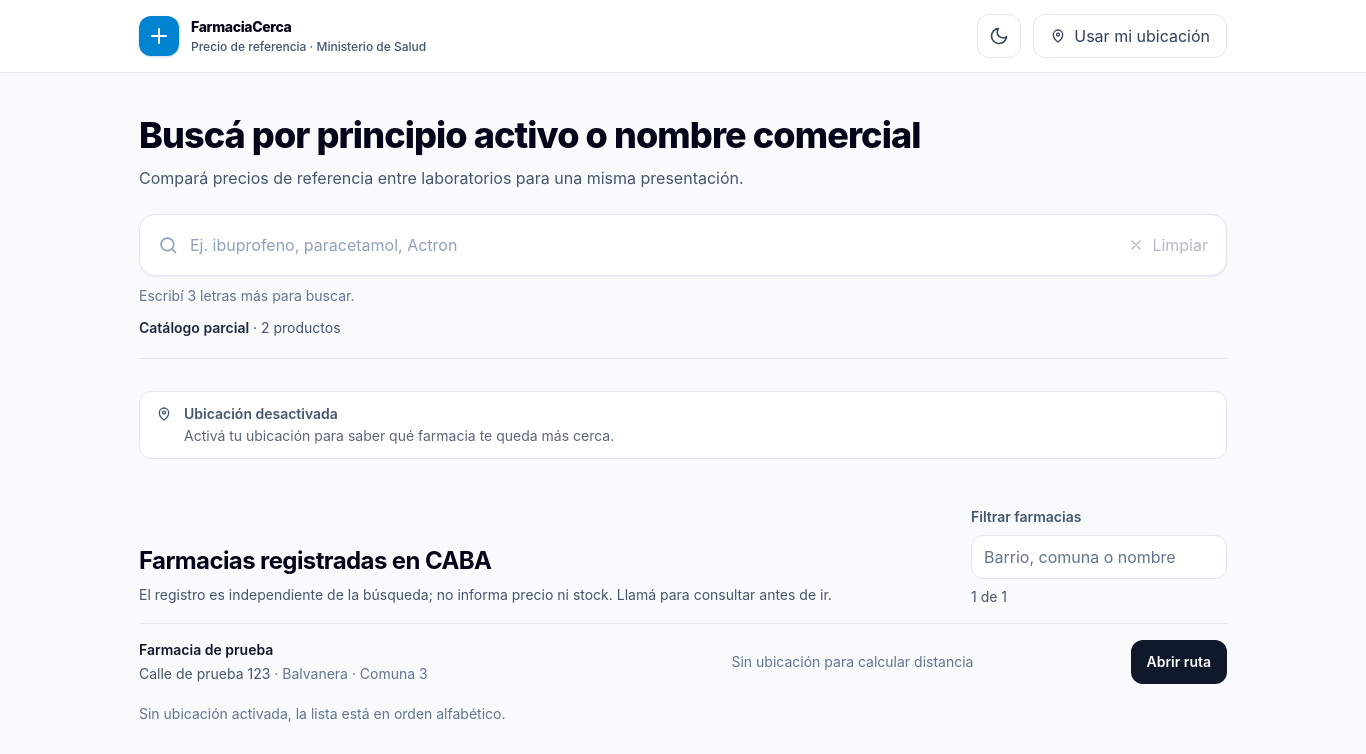
Test case: FarmaciaCerca result and directory layout › places the independent CABA directory between principal and related matches
Type "ibuprofeno" into the search field named "buscar por principio activo" at {"x": 647, "y": 245}, box [186,221,1108,269]
(page scrolled)
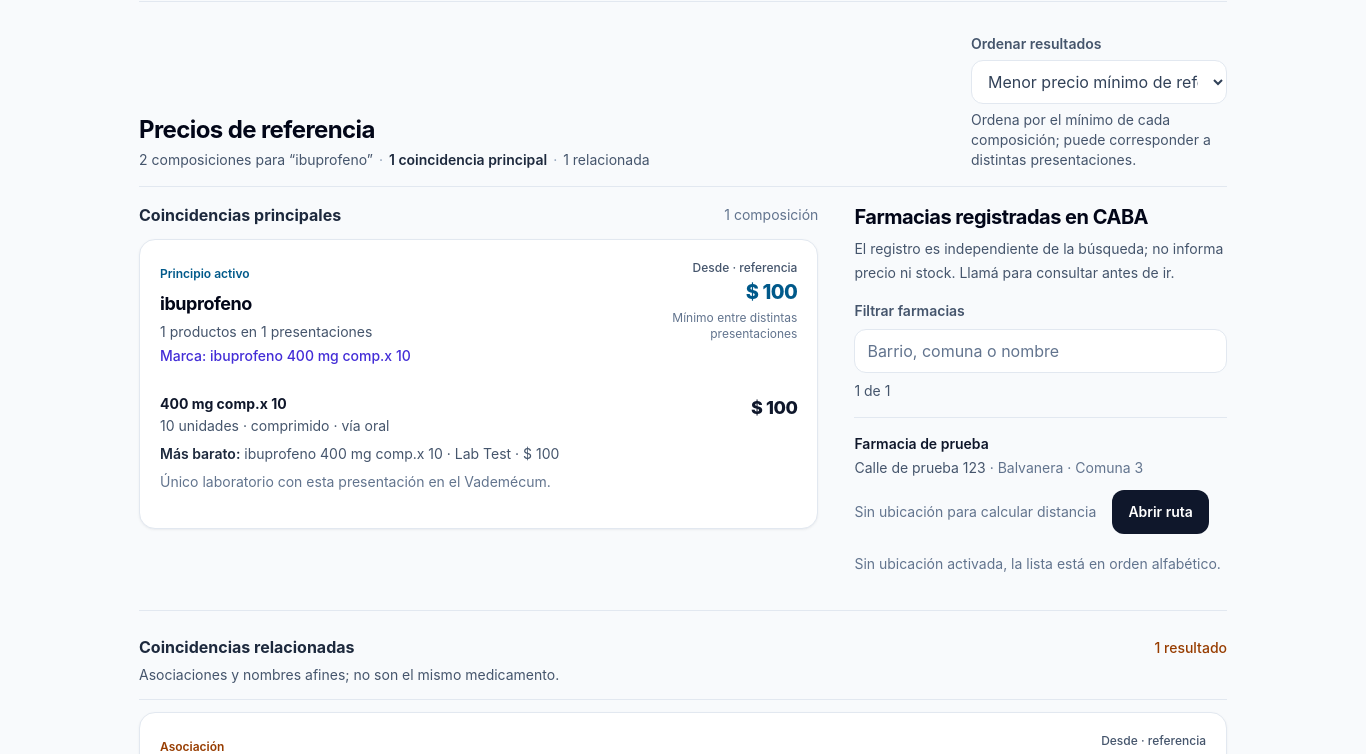
Expected: the element "ibuprofeno" is shown, [139,239,818,529]
